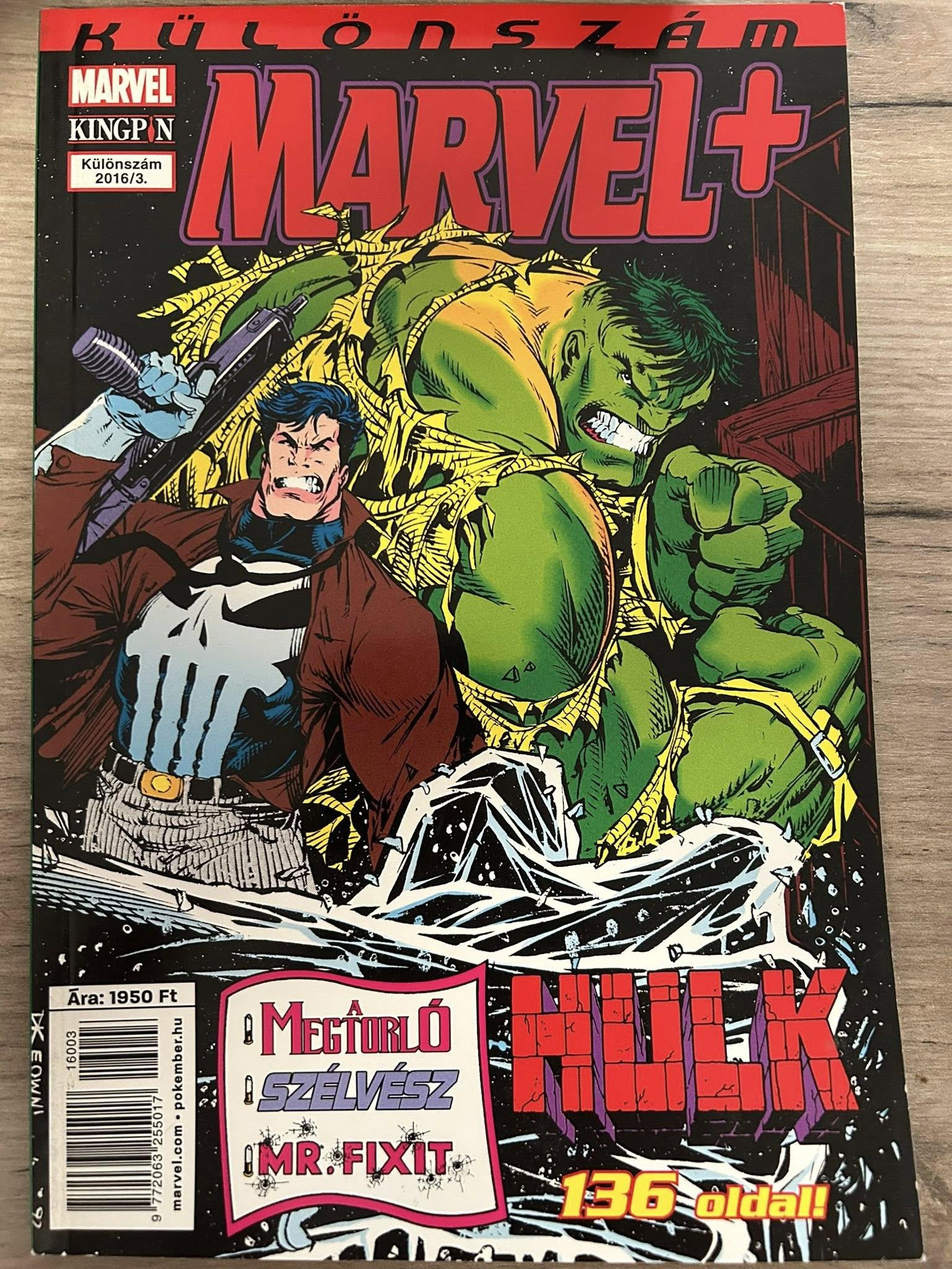comic: (22, 0, 919, 1268)
